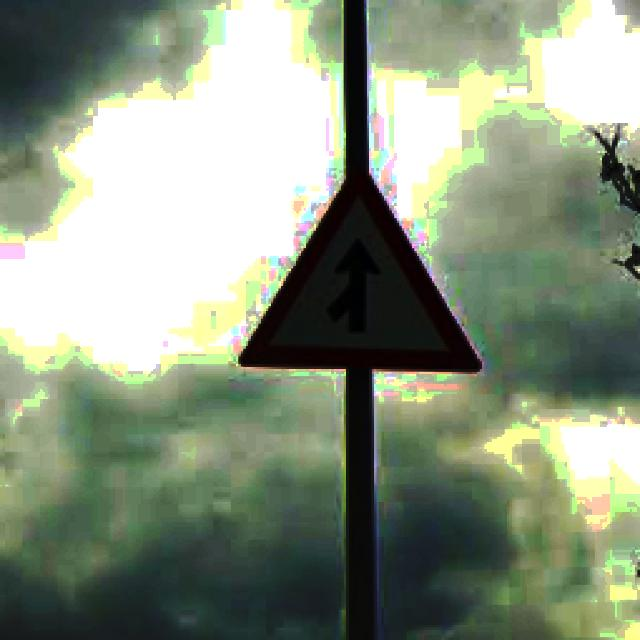leftmerge: (241, 168, 482, 374)
